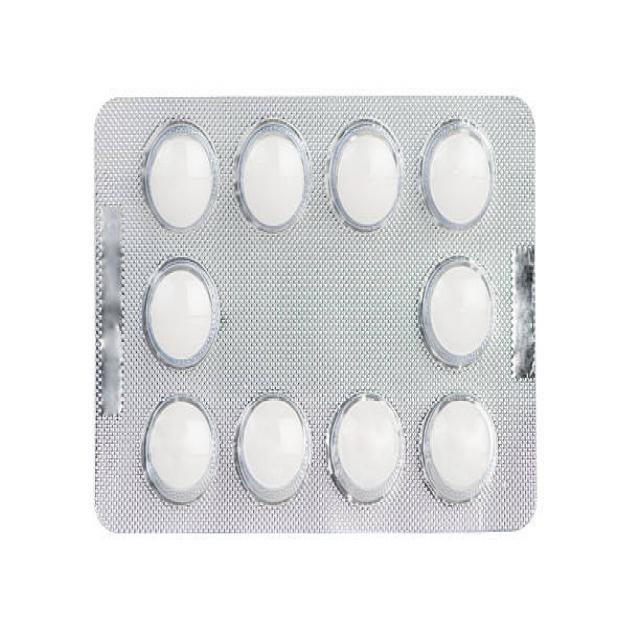Pill: (229, 377, 317, 508), (136, 385, 221, 515), (138, 250, 225, 375), (133, 112, 220, 236), (418, 109, 498, 242), (232, 112, 313, 242), (329, 378, 407, 510), (328, 108, 403, 240), (419, 390, 500, 510), (421, 251, 498, 372)
